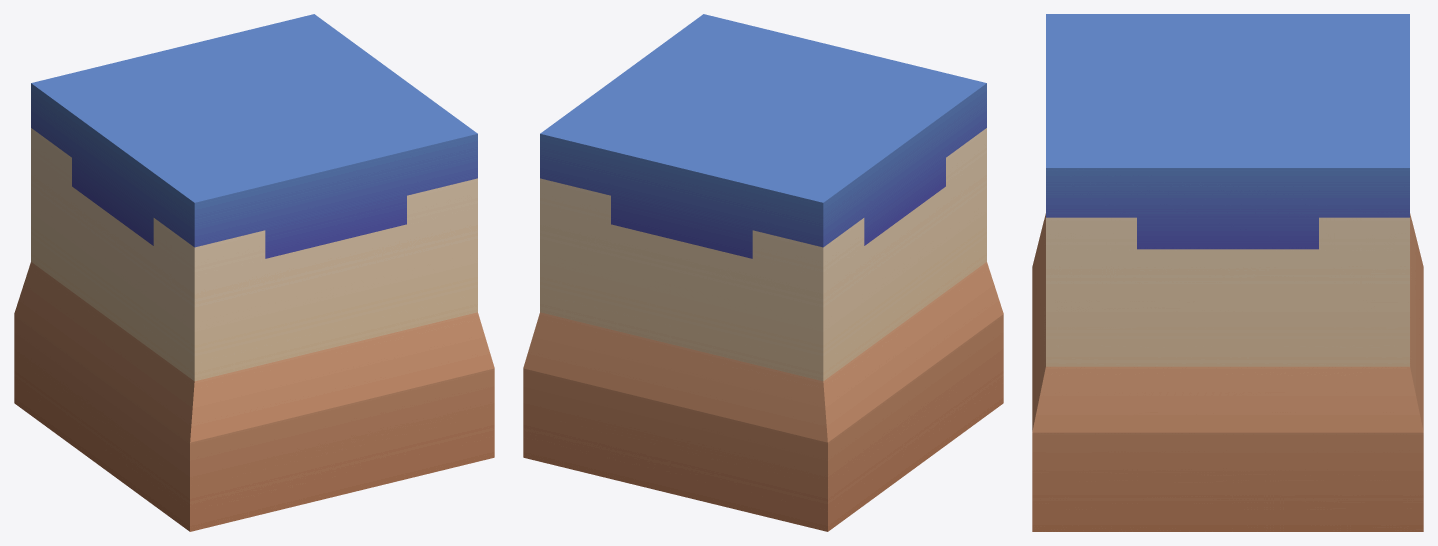
Rendered from tower-square-base-color.glb.
3 renders of one model, left to right at view 1: azimuth 30°, elevation 25°; view 2: azimuth 150°, elevation 25°; view 3: azimuth 270°, elevation 25°, orthographic. The views are drawn at different scales.
Parts seen in each view (by area): view 1: tower-square-base-color; view 2: tower-square-base-color; view 3: tower-square-base-color.
Part boxes in pixels (x1,y1,x2,y2): tower-square-base-color: (14,14,494,531); tower-square-base-color: (523,14,1003,531); tower-square-base-color: (1032,14,1423,531).
Size of the model in its own units: 1 by 1.01 by 1.
1 material, 1 textured.
